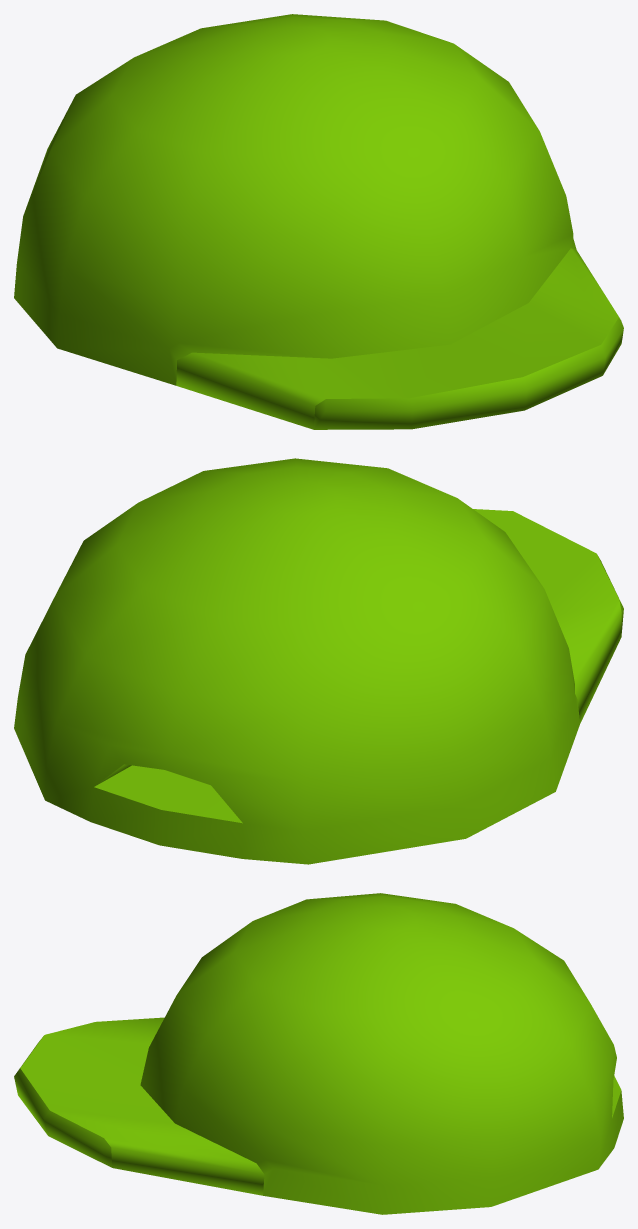
Rendered from Cap.fbx.
3 renders of one model, top to bottom at view 1: azimuth 30°, elevation 25°; view 2: azimuth 150°, elevation 25°; view 3: azimuth 270°, elevation 25°, orthographic. The views are drawn at different scales.
Visible parts, largest first — view 1: Cap; view 2: Cap; view 3: Cap.
Boxes of the visible parts, left/top/right/bottom form: Cap: left=14, top=14, right=623, bottom=429; Cap: left=14, top=458, right=623, bottom=864; Cap: left=14, top=893, right=623, bottom=1214.
Size of the model in its own units: 92.99 by 43.77 by 119.
